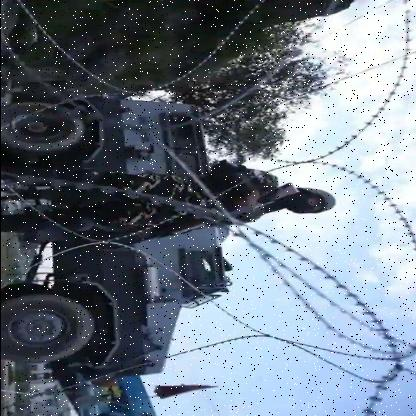rifle: (106, 181, 300, 252)
